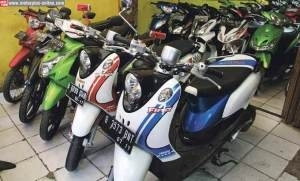plate: (99, 114, 135, 153), (64, 83, 85, 104)
